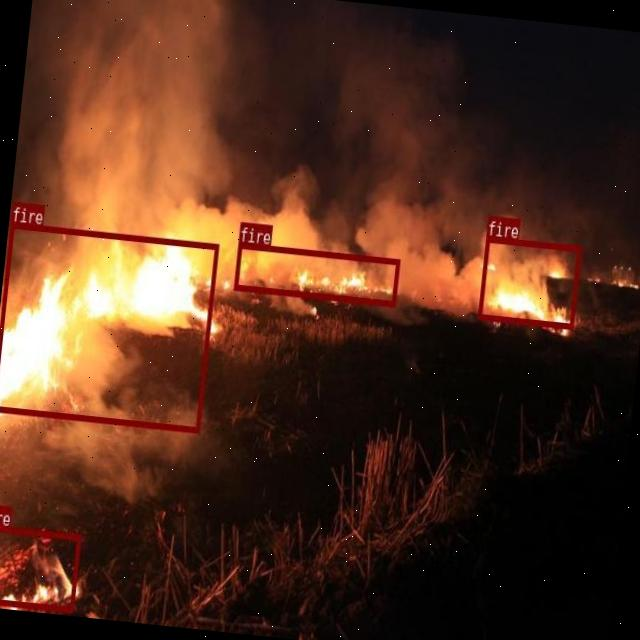fire: (0, 221, 218, 432), (234, 241, 400, 306), (477, 235, 580, 328), (0, 522, 80, 611)
